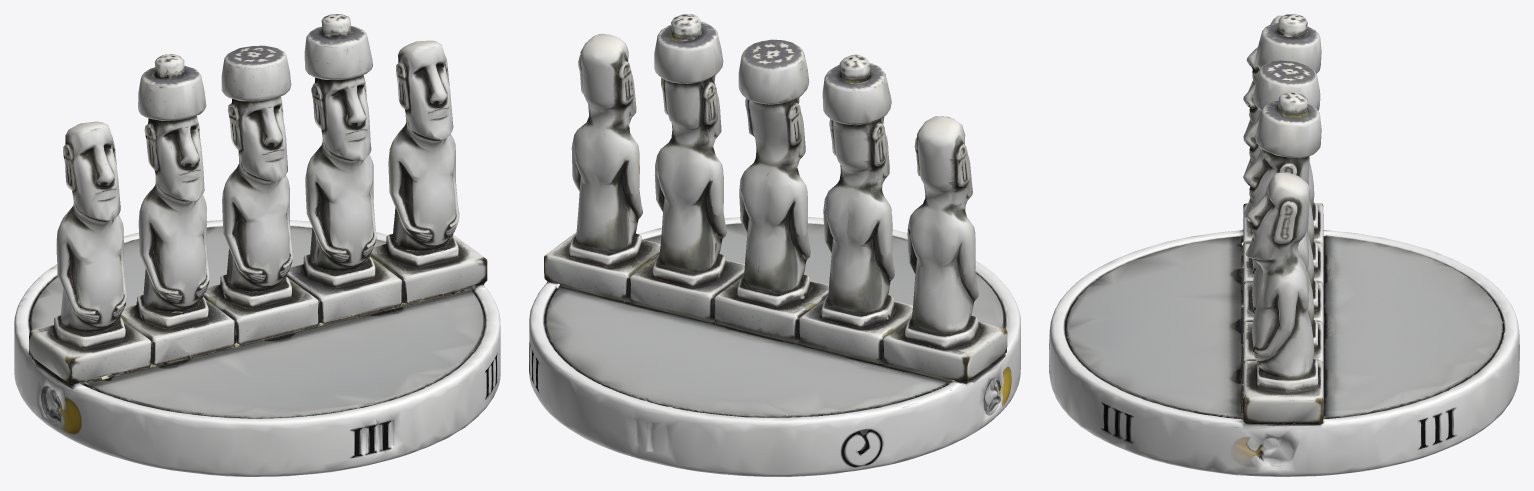
File: easter_island_silver.glb
3 renders of one model, left to right at view 1: azimuth 30°, elevation 25°; view 2: azimuth 150°, elevation 25°; view 3: azimuth 270°, elevation 25°, orthographic. The views are drawn at different scales.
Parts seen in each view (by area): view 1: Mesh_0; view 2: Mesh_0; view 3: Mesh_0.
Part boxes in pixels (bbox=[...]): Mesh_0: bbox=[14, 14, 500, 476]; Mesh_0: bbox=[529, 14, 1020, 476]; Mesh_0: bbox=[1049, 14, 1519, 476].
Size of the model in its own units: 1.91 by 1.45 by 1.91.
1 material, 1 textured.
